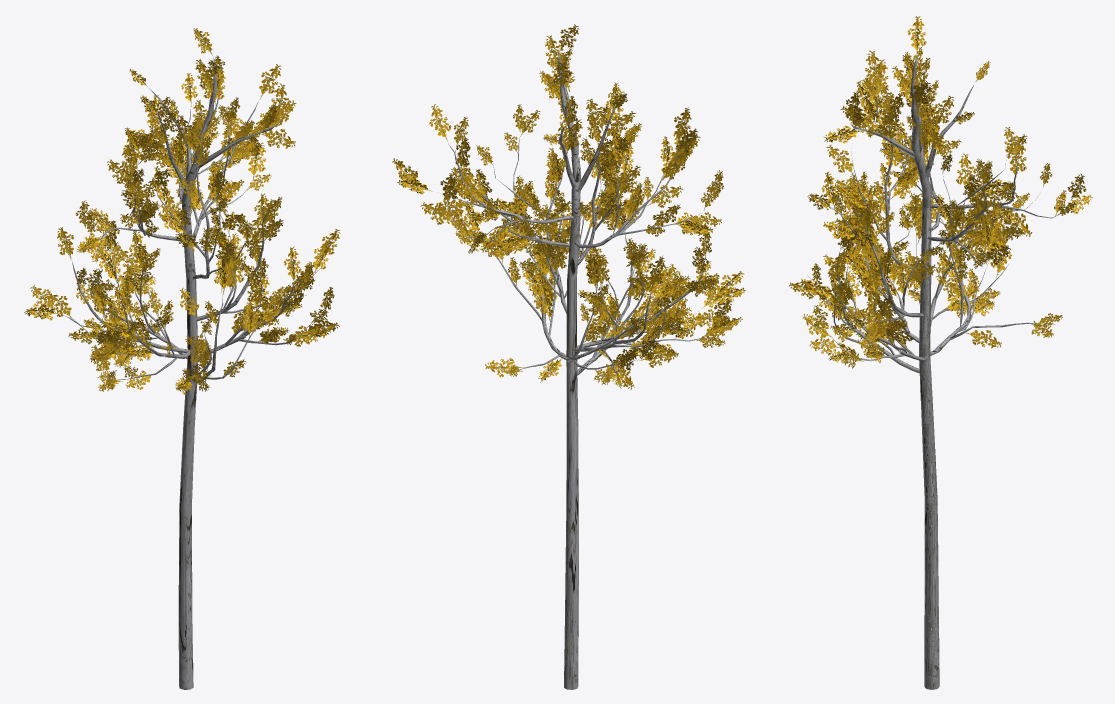
The model's file is tree (2).glb.
3 renders of one model, left to right at view 1: azimuth 30°, elevation 25°; view 2: azimuth 150°, elevation 25°; view 3: azimuth 270°, elevation 25°, orthographic. The views are drawn at different scales.
Visible parts, largest first — view 1: Tree; view 2: Tree; view 3: Tree.
Part boxes in pixels (x1=…): Tree: x1=24, y1=28, x2=340, y2=689; Tree: x1=392, y1=24, x2=746, y2=689; Tree: x1=788, y1=16, x2=1092, y2=689.
Bounding box in the file's own units: 32.9 × 70.91 × 29.85.
2 materials, 2 textured.
